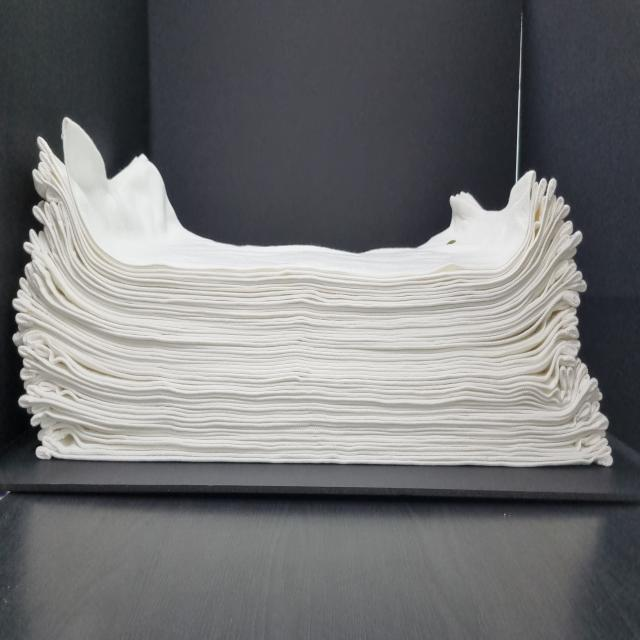50_towel_counts: (0, 100, 634, 490)
